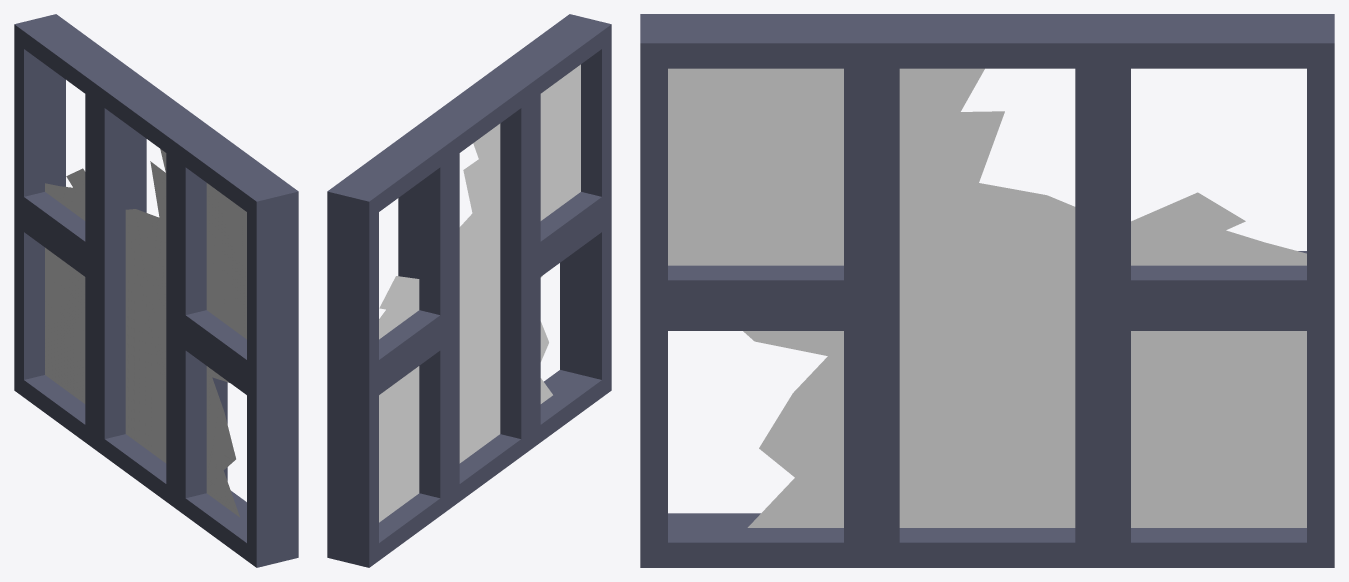
Rendered from WindowFrame.fbx.
The picture shows the model from 3 angles, left to right: view 1: azimuth 30°, elevation 25°; view 2: azimuth 150°, elevation 25°; view 3: azimuth 270°, elevation 25°; orthographic projection. The views are drawn at different scales.
Parts seen in each view (by area): view 1: Cube.013; view 2: Cube.013; view 3: Cube.013.
Part boxes in pixels (bbox=[...]): Cube.013: bbox=[14, 14, 298, 567]; Cube.013: bbox=[327, 14, 611, 567]; Cube.013: bbox=[640, 14, 1334, 567].
Size of the model in its own units: 30 by 250 by 300.
